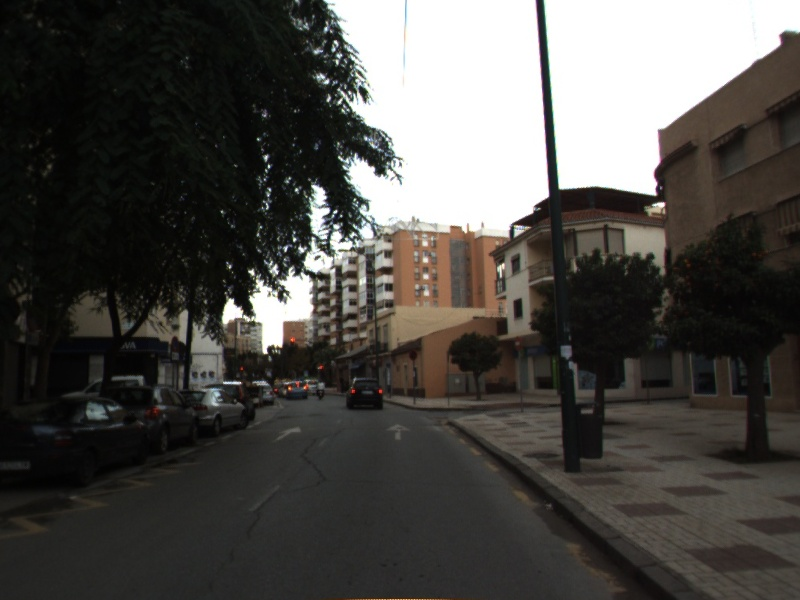STRAIGHT: (384, 421, 413, 442), (274, 424, 304, 443)
